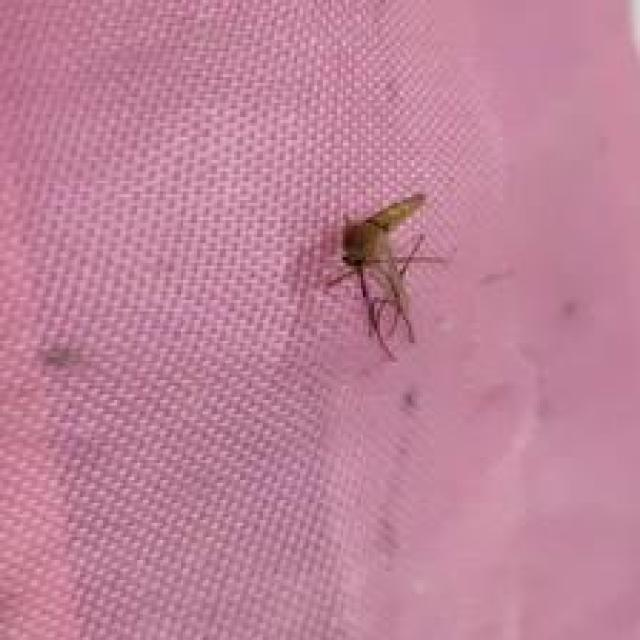Culex: (322, 190, 447, 361)
